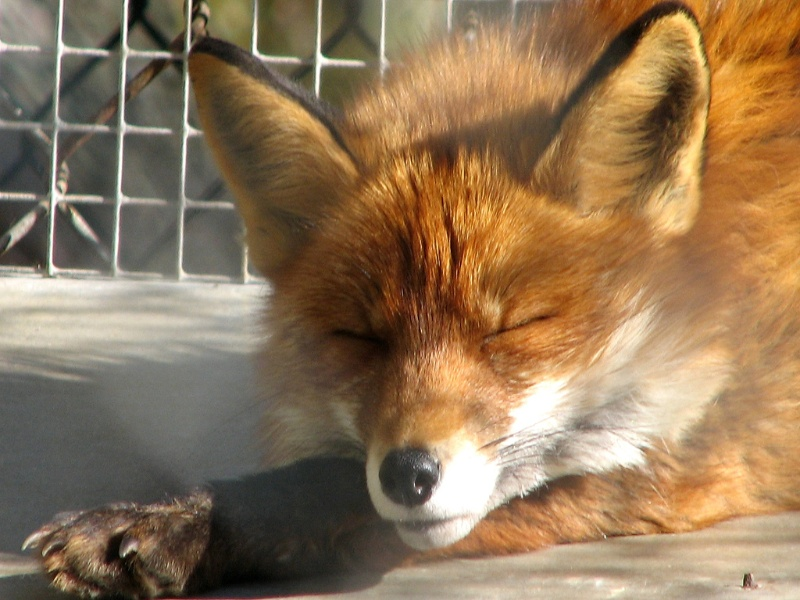fox: (30, 8, 800, 596)
